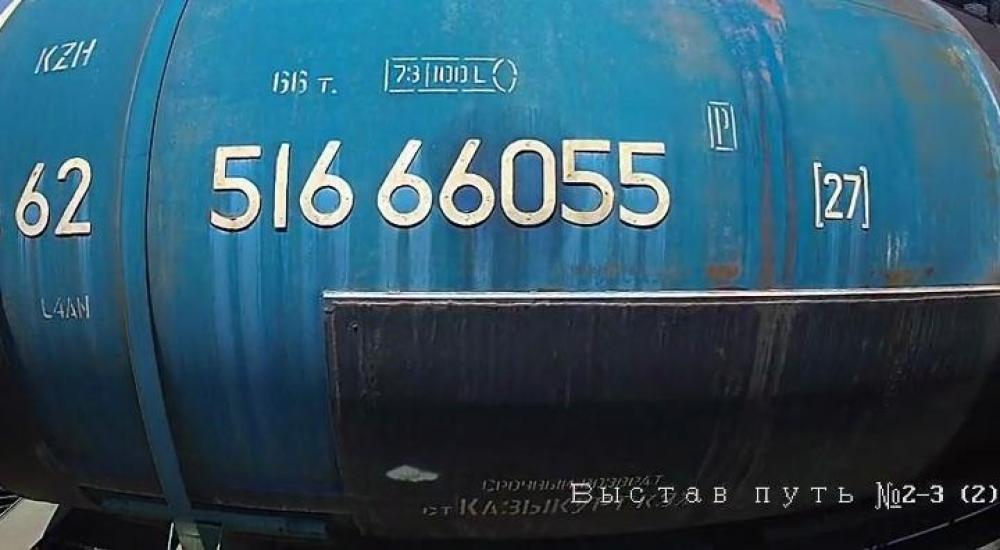Wagon-number: (201, 131, 678, 240)
